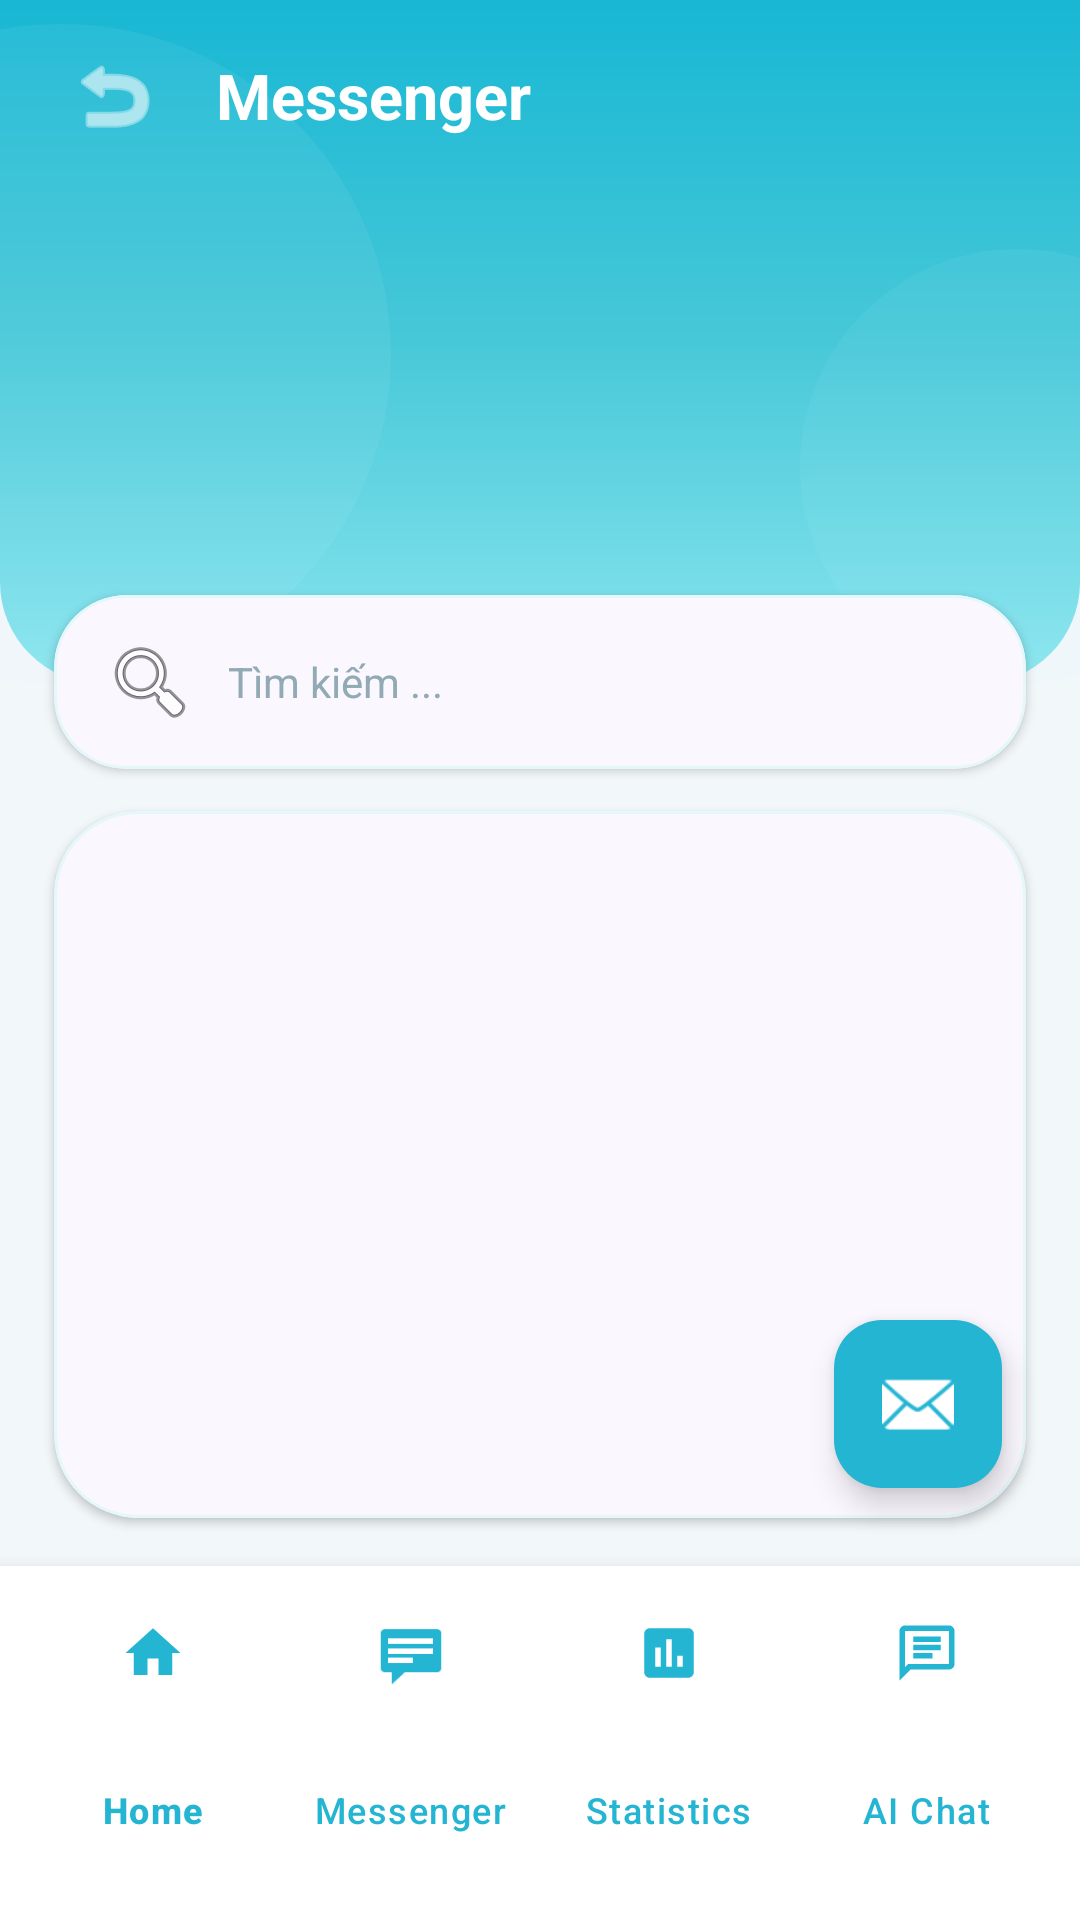

Locate icon controls on the screen. Image size 1080px x 1920px, boxes as bbox=[x1, y1, x2, y2].
New message: bbox=[834, 1320, 1002, 1488]
revert: bbox=[81, 66, 150, 128]
